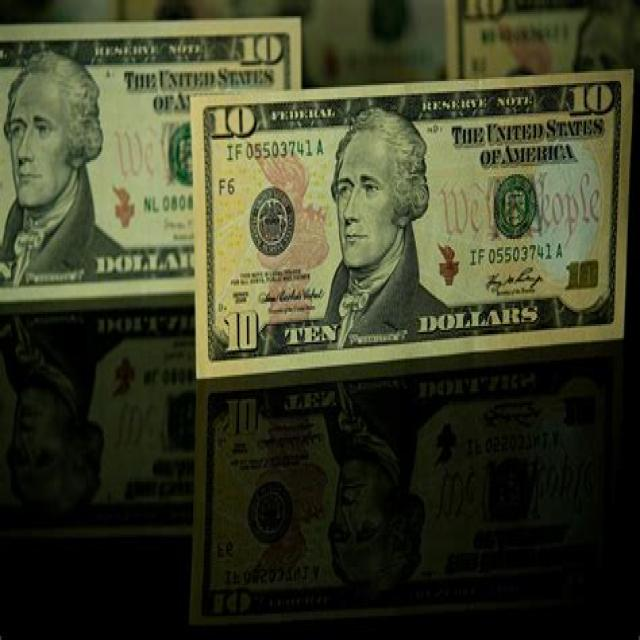Ten: (192, 66, 636, 380), (0, 24, 305, 304)
